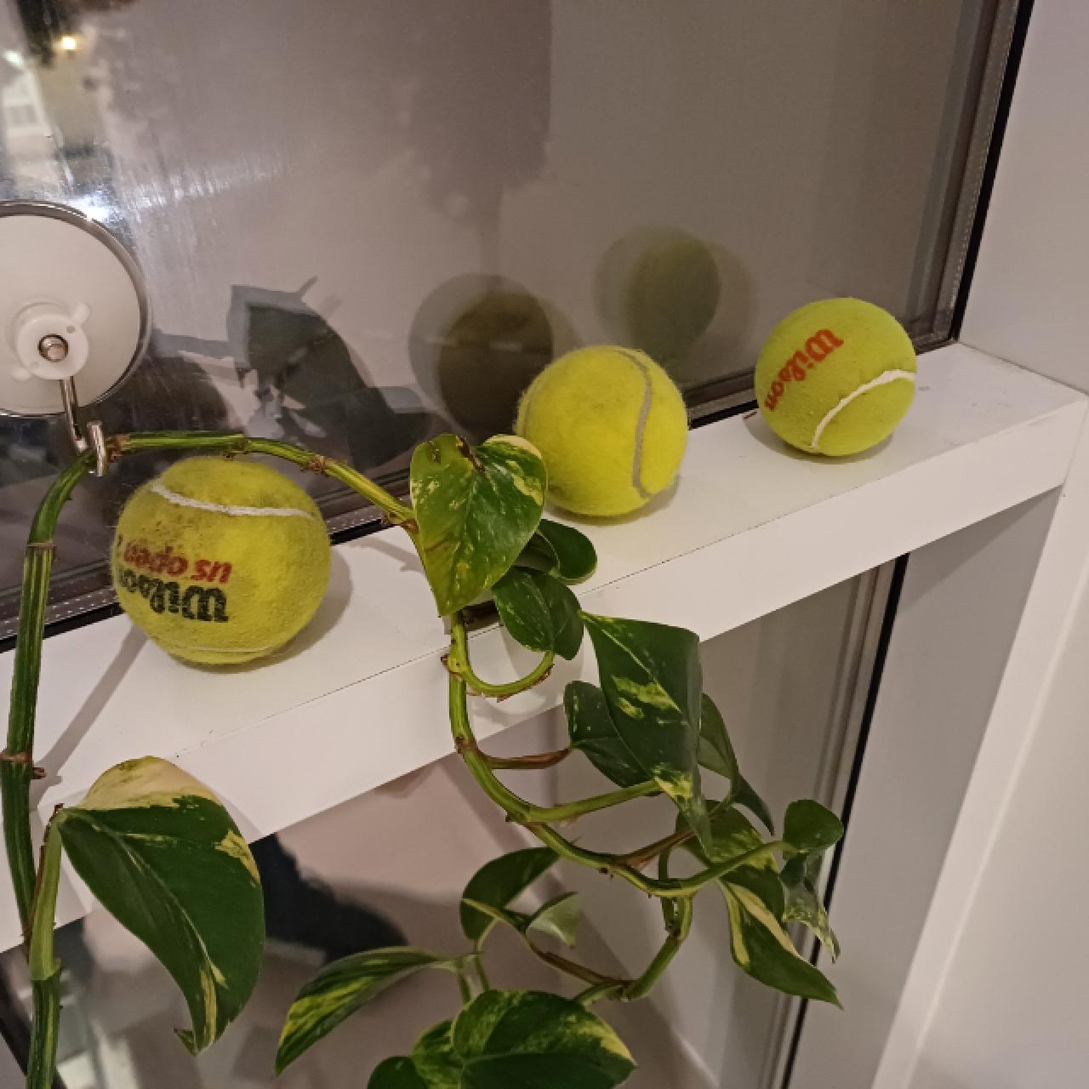tennis-ball: (107, 453, 332, 668), (515, 344, 687, 520), (754, 295, 917, 459)
